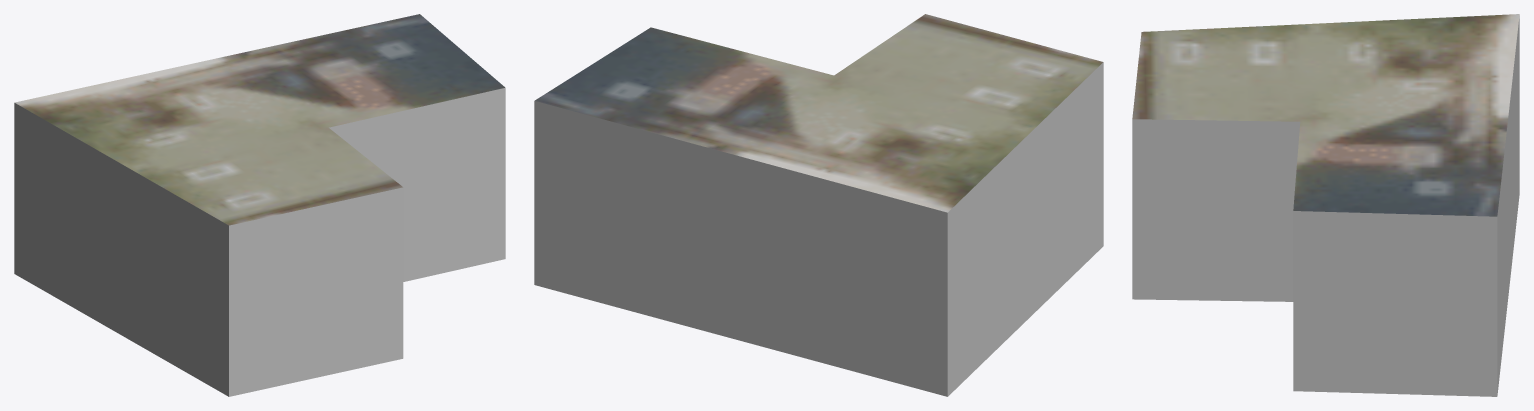
Rendered from DEBW_0010007Tx3y.gltf.
3 views of the same model, side by side, from view 1: azimuth 30°, elevation 25°; view 2: azimuth 150°, elevation 25°; view 3: azimuth 270°, elevation 25° (orthographic). The views are drawn at different scales.
Parts seen in each view (by area): view 1: Z_UP; view 2: Z_UP; view 3: Z_UP.
Part boxes in pixels (box(x1,y1,x2,y2)): Z_UP: box(14, 14, 505, 396); Z_UP: box(534, 14, 1103, 396); Z_UP: box(1132, 14, 1519, 396).
Size of the model in its own units: 17.19 by 7.13 by 13.88.
2 materials, 1 textured.
